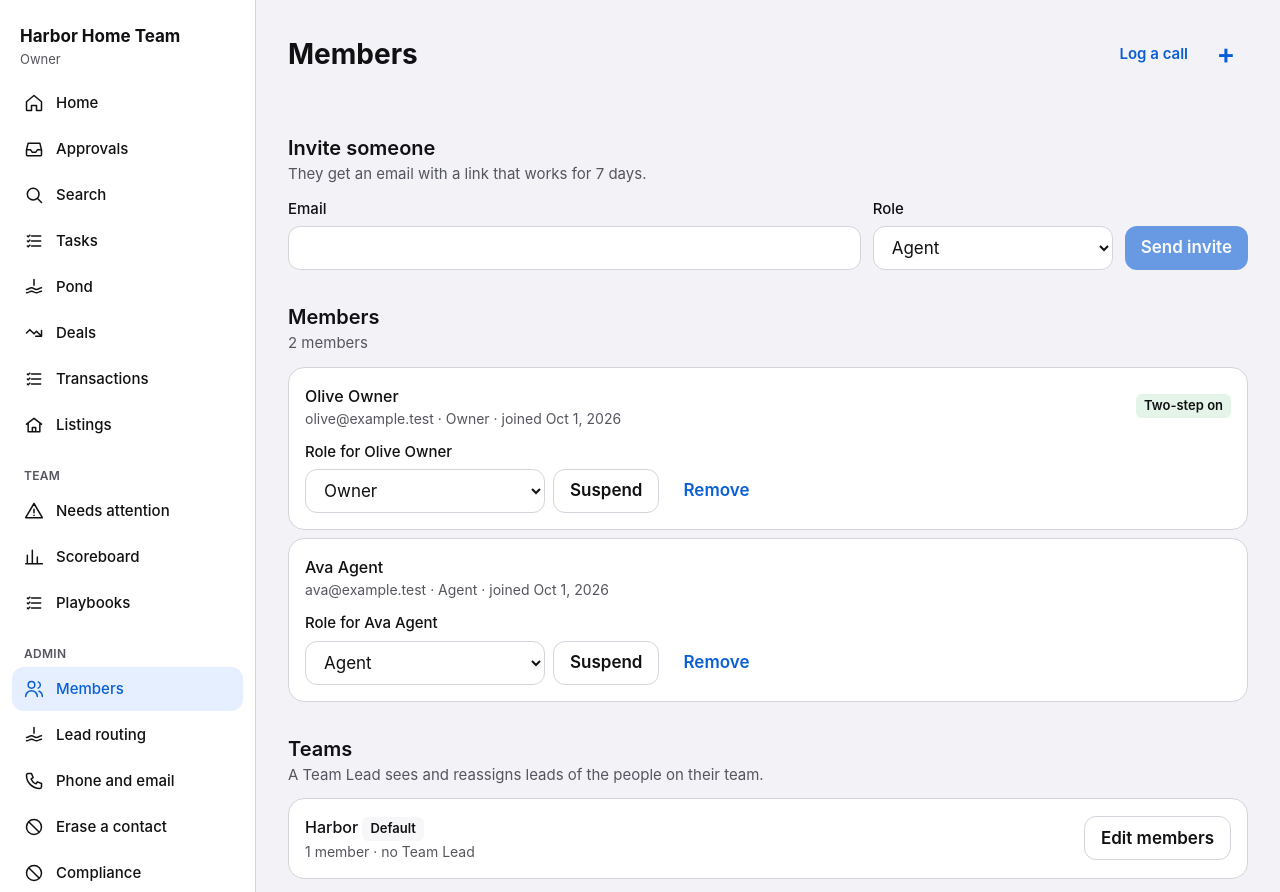
Test: Members › says honestly when the invite exists but its email didn't go out
Type "new@example.test" into the field labelled "Email" at {"x": 574, "y": 248}, box [288,226,861,270]
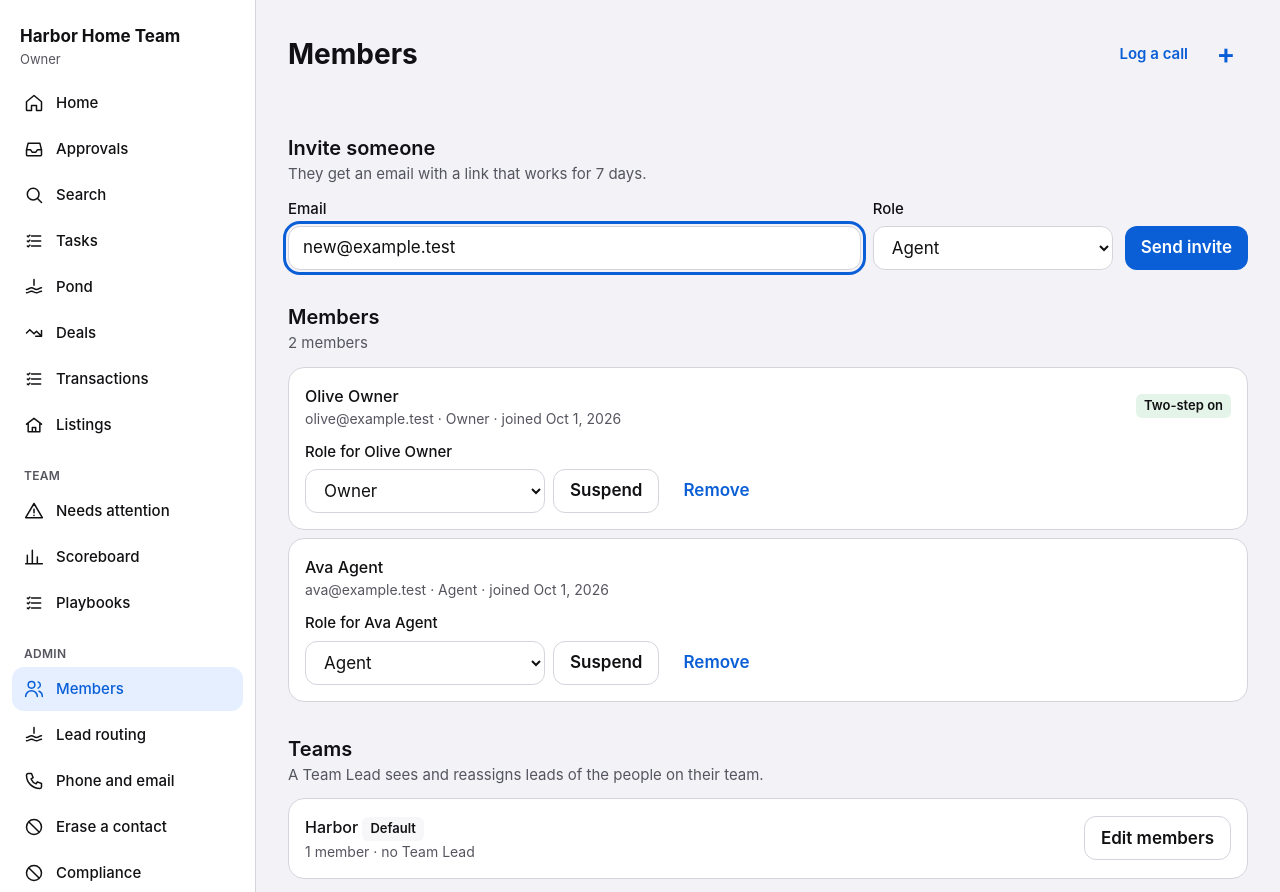
Click the button "Send invite" at {"x": 1186, "y": 248}, box [1125,226,1248,270]
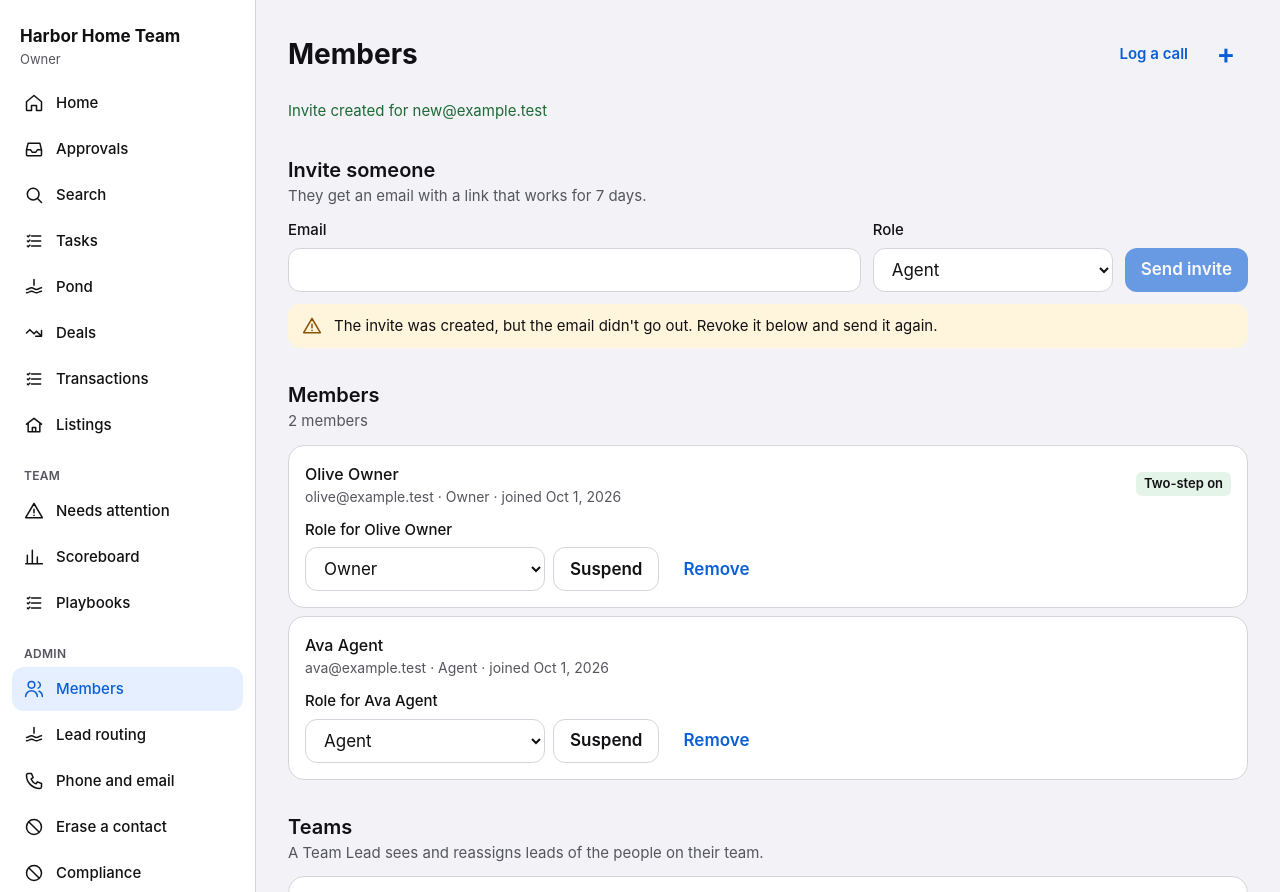
Result: the text "The invite was created, but the email didn't go out. Revoke it below and send it again." is shown at [334,316,938,334]
